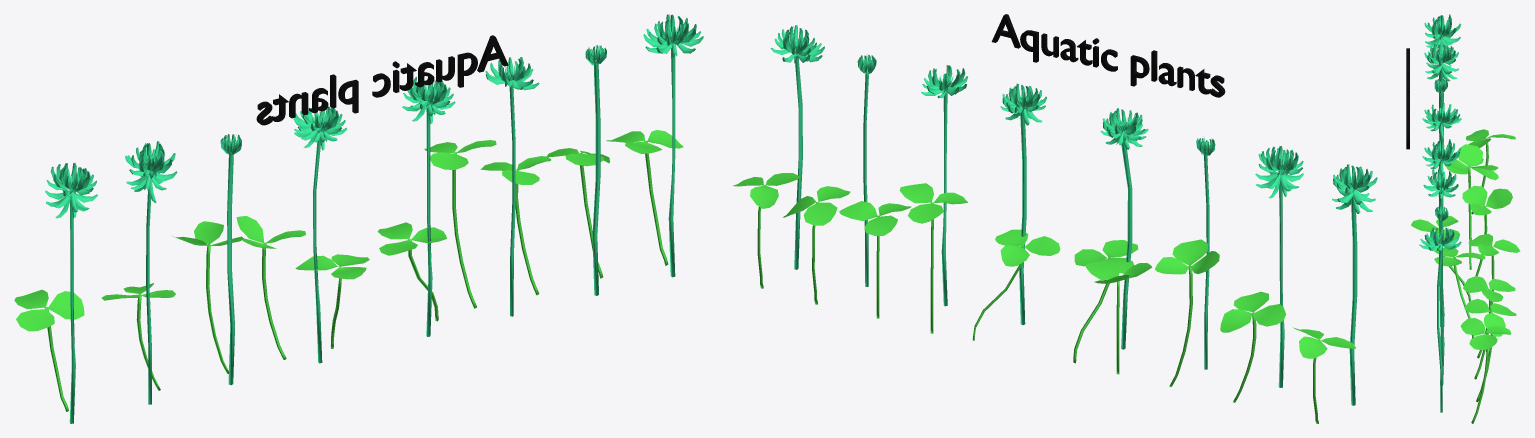
Rendered from Aquatic plants.gltf 4.gltf.
The picture shows the model from 3 angles, left to right: view 1: azimuth 30°, elevation 25°; view 2: azimuth 150°, elevation 25°; view 3: azimuth 270°, elevation 25°; orthographic projection. The views are drawn at different scales.
Parts seen in each view (by area): view 1: flower_A, clover_9, Text; view 2: clover_9, flower_A, Text; view 3: clover_9, flower_A, Text.
Boxes of the visible parts, left/top/right/bottom form: flower_A: left=45, top=14, right=703, bottom=423; clover_9: left=14, top=130, right=683, bottom=411; Text: left=256, top=35, right=508, bottom=125; clover_9: left=733, top=173, right=1355, bottom=423; flower_A: left=771, top=25, right=1377, bottom=405; Text: left=991, top=14, right=1225, bottom=97; clover_9: left=1411, top=129, right=1520, bottom=423; flower_A: left=1419, top=14, right=1461, bottom=412; Text: left=1406, top=48, right=1409, bottom=149.
Size of the model in its own units: 1.65 by 0.7474 by 0.3423.
